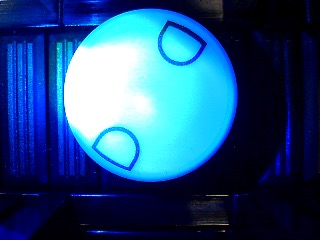MIPO2: (64, 7, 239, 183)
